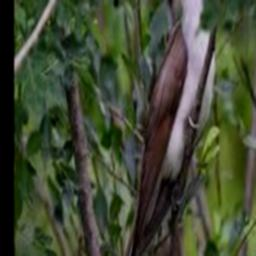Cuckoo: (118, 0, 214, 256)
